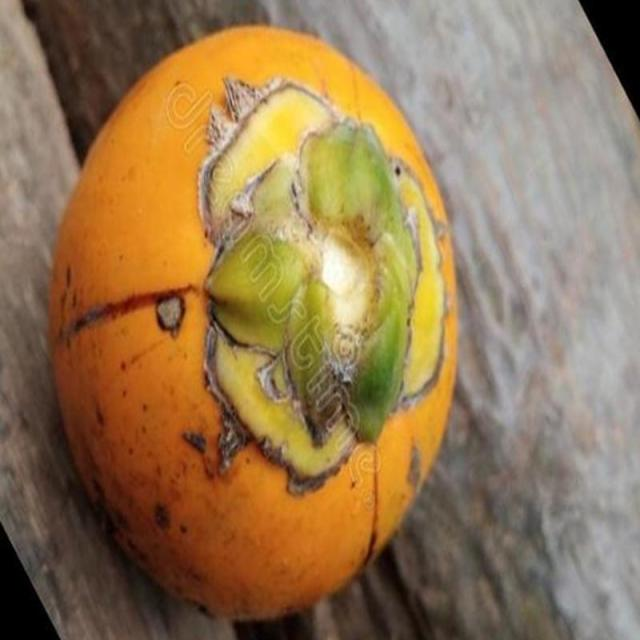good: (46, 22, 465, 628)
